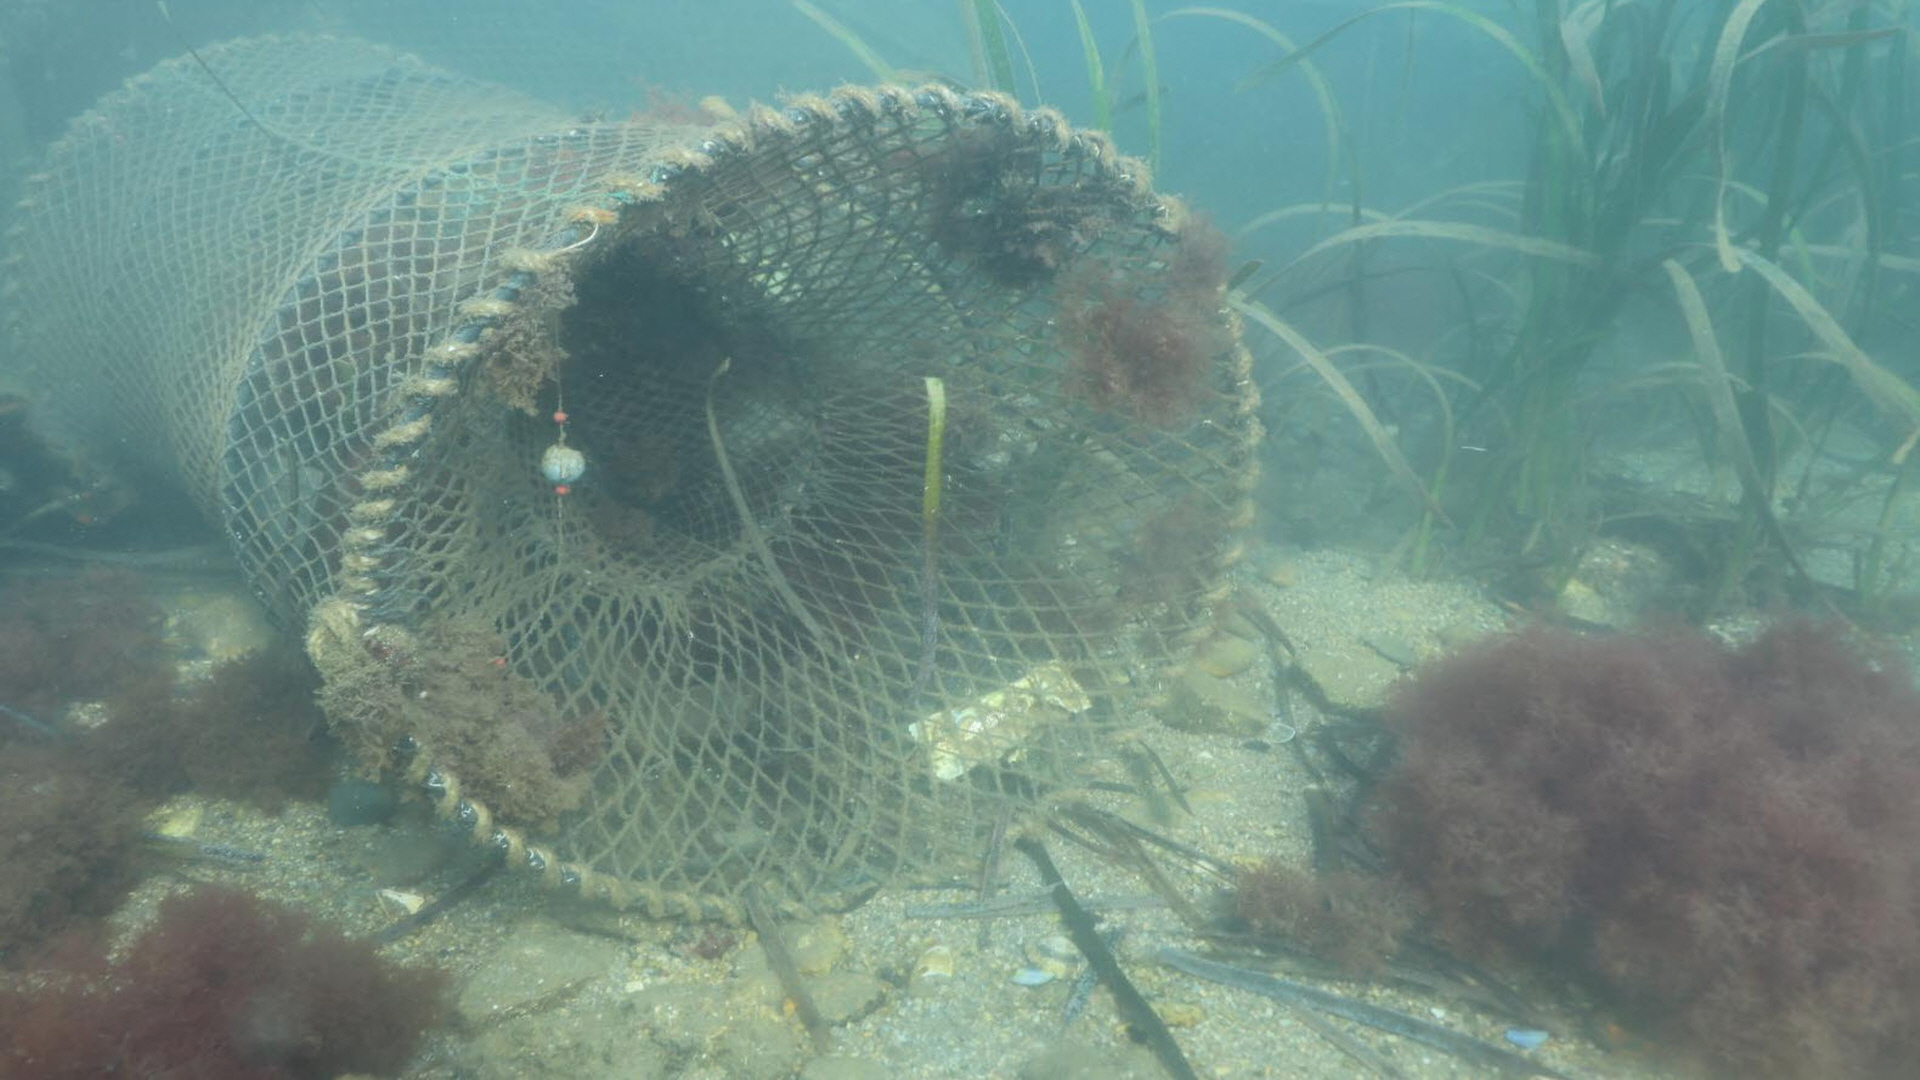spring fish trap: (0, 22, 1266, 922)
